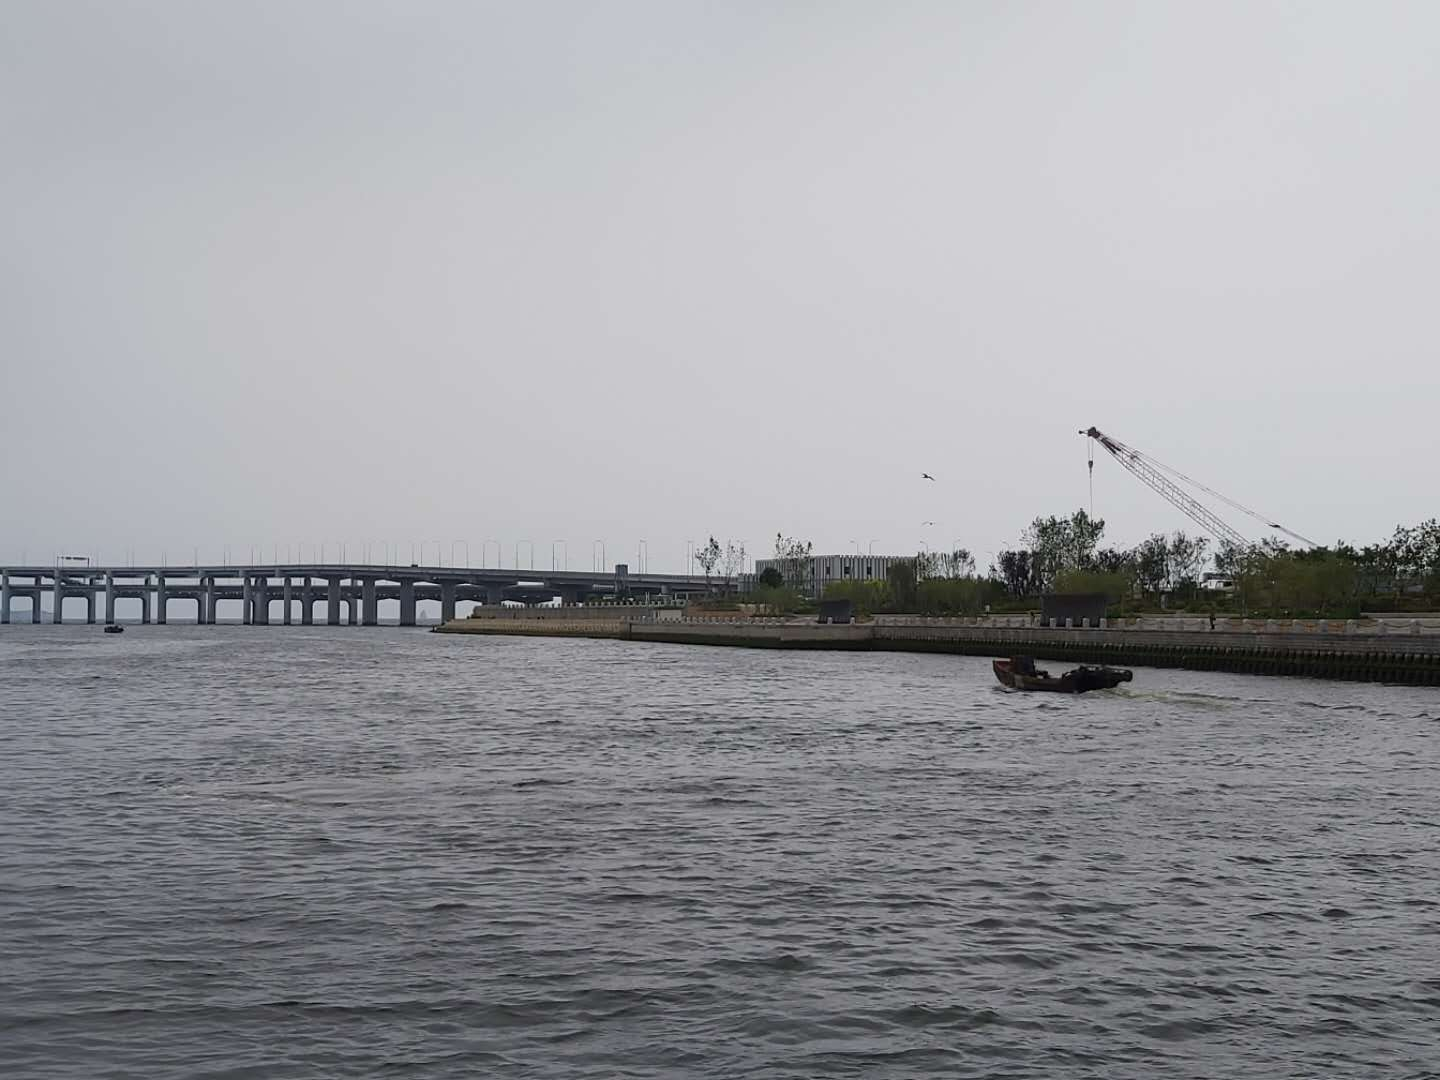boat: (982, 656, 1140, 697), (102, 623, 130, 636)
bridge: (5, 559, 467, 621)
